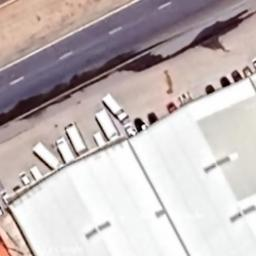sedan: (134, 114, 150, 132), (17, 171, 32, 188), (125, 122, 138, 138), (177, 91, 194, 102), (249, 54, 256, 75)
truck: (27, 139, 64, 169), (96, 105, 122, 141), (64, 118, 88, 154), (100, 92, 130, 120), (54, 135, 74, 163), (91, 127, 106, 151), (28, 166, 44, 182)
unknown: (231, 66, 247, 84), (240, 62, 254, 80), (146, 109, 161, 125), (218, 75, 233, 89), (202, 82, 218, 94), (168, 102, 182, 114)
